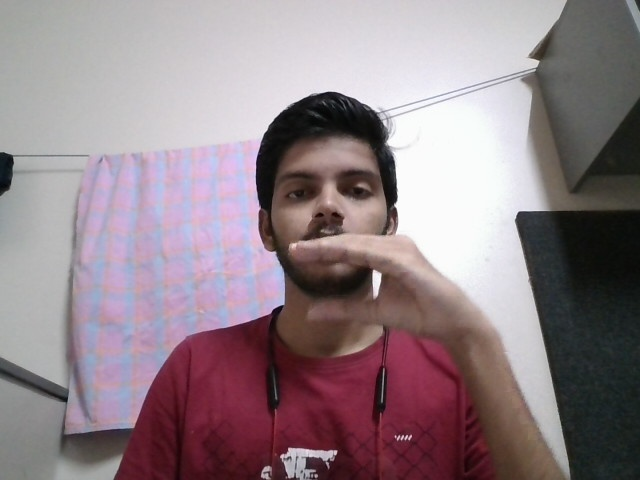Yes: (281, 228, 481, 346)
